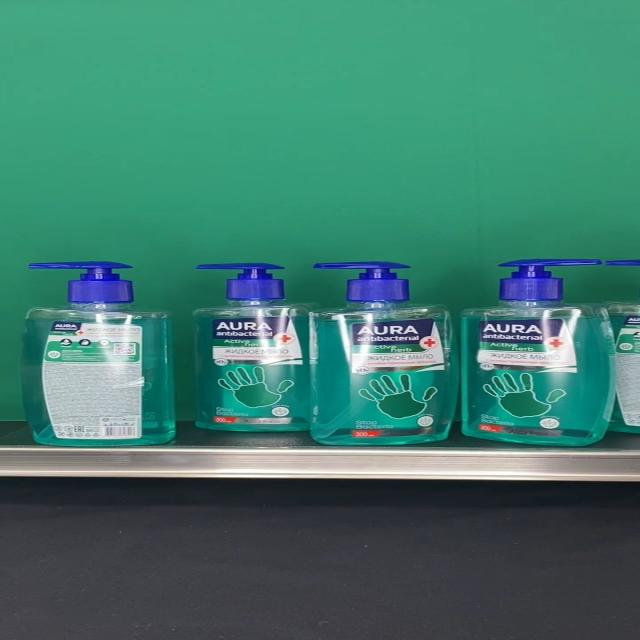Bottle: (460, 258, 617, 446), (22, 262, 175, 445), (310, 262, 460, 446), (192, 263, 311, 432)
Cap: (497, 258, 604, 302), (28, 261, 136, 301), (312, 262, 413, 300), (195, 263, 285, 299)
